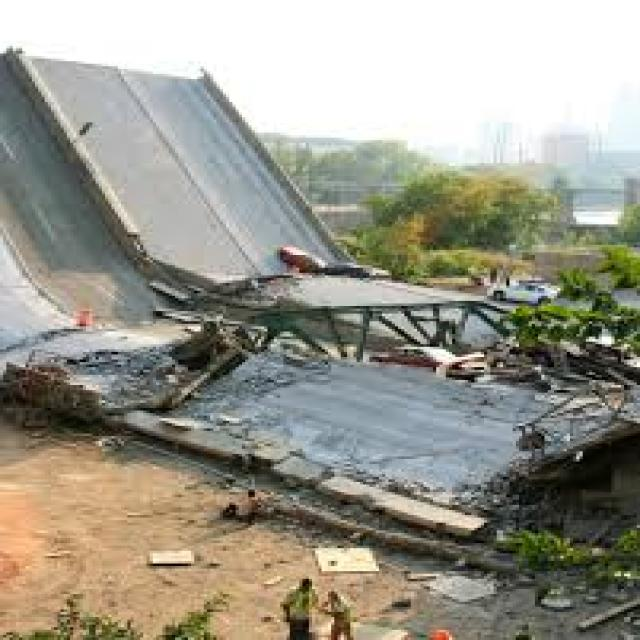bridge collapse: (13, 18, 640, 550)
